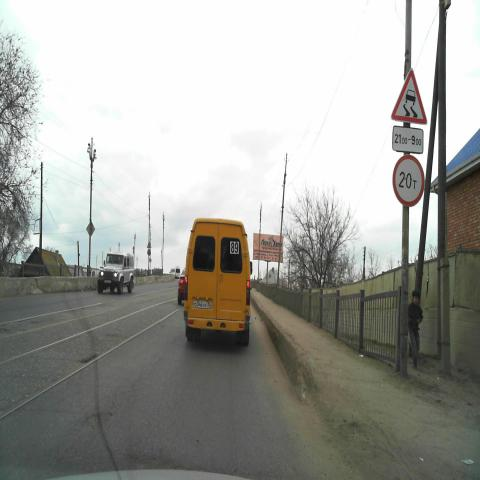1_15: (391, 66, 427, 125)
3_11: (392, 150, 425, 208)
8_5_4: (392, 126, 425, 154)
